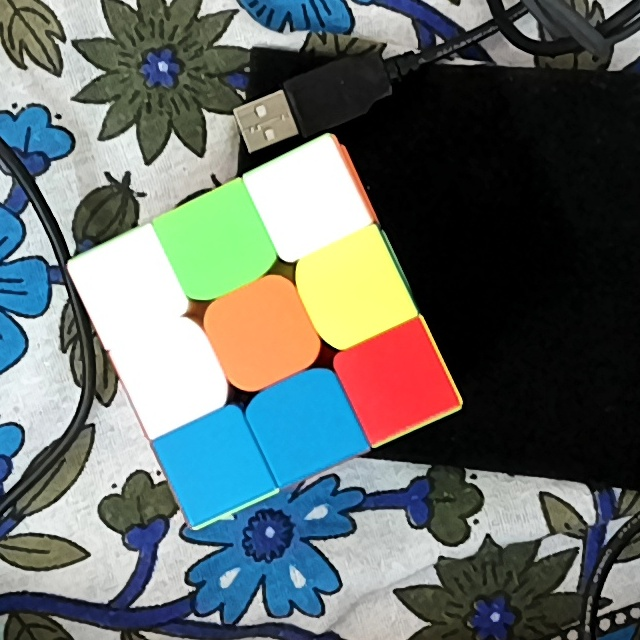tile: (363, 345, 430, 417), (319, 253, 387, 322), (228, 297, 296, 366), (272, 389, 338, 459), (184, 211, 251, 278), (274, 168, 341, 235), (139, 343, 205, 411), (96, 254, 160, 323), (180, 429, 244, 493)
